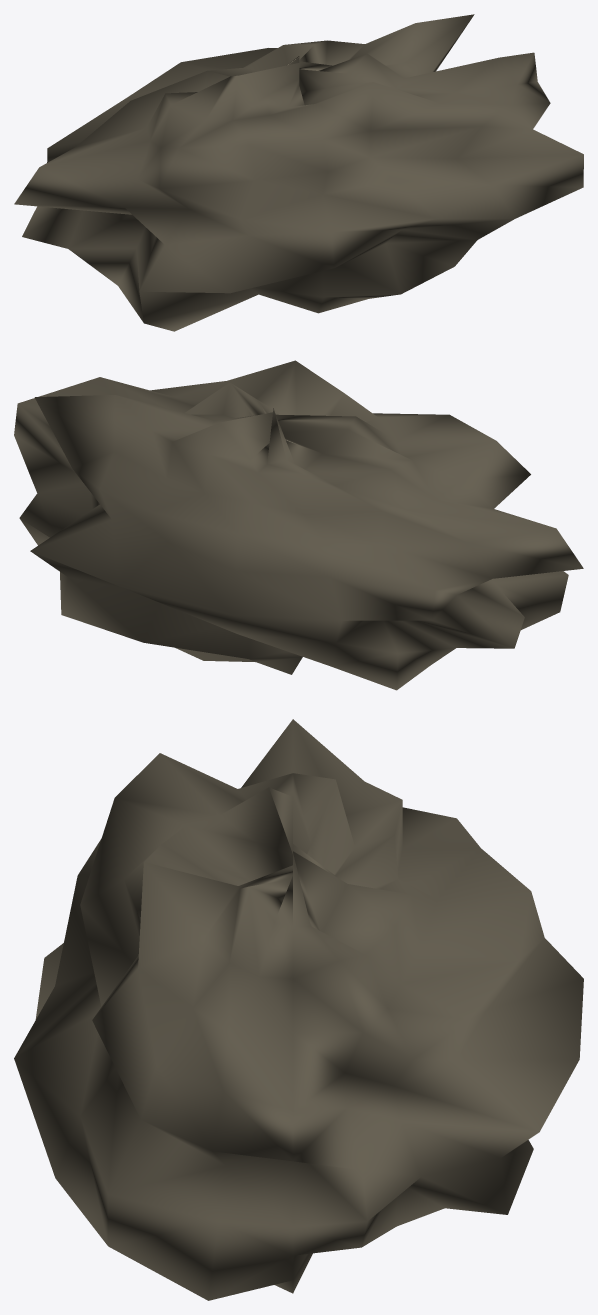
The model's file is rock2.glb.
The picture shows the model from 3 angles, top to bottom: view 1: azimuth 30°, elevation 25°; view 2: azimuth 150°, elevation 25°; view 3: azimuth 270°, elevation 25°; orthographic projection. The views are drawn at different scales.
Parts seen in each view (by area): view 1: Rock; view 2: Rock; view 3: Rock.
Part boxes in pixels (left/top/right/bottom): Rock: left=14, top=14, right=583, bottom=331; Rock: left=14, top=360, right=583, bottom=690; Rock: left=14, top=719, right=583, bottom=1300.
Size of the model in its own units: 3.42 by 1.47 by 2.04.
